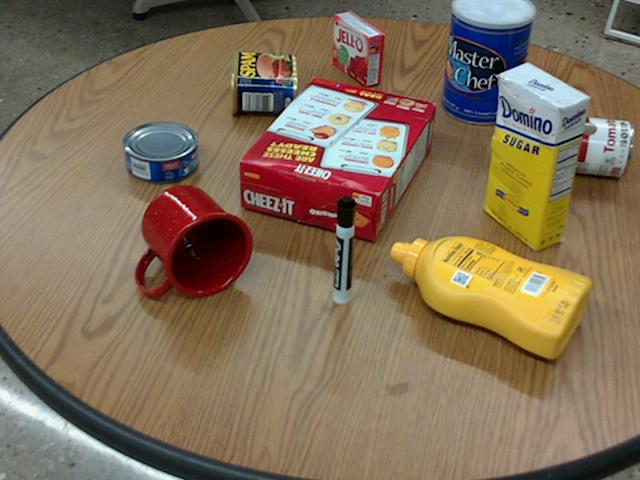cracker_box: (238, 78, 435, 240)
gelatin_box: (333, 11, 384, 85)
large_marker: (332, 195, 355, 303)
master_chef_can: (442, 0, 534, 123)
mug: (134, 185, 251, 297)
mustard_bottle: (390, 235, 590, 357)
potted_meat_can: (230, 49, 296, 112)
sugar_box: (485, 62, 587, 250)
tomato_soup_can: (533, 111, 630, 175)
tuna_fish_can: (122, 121, 197, 181)
